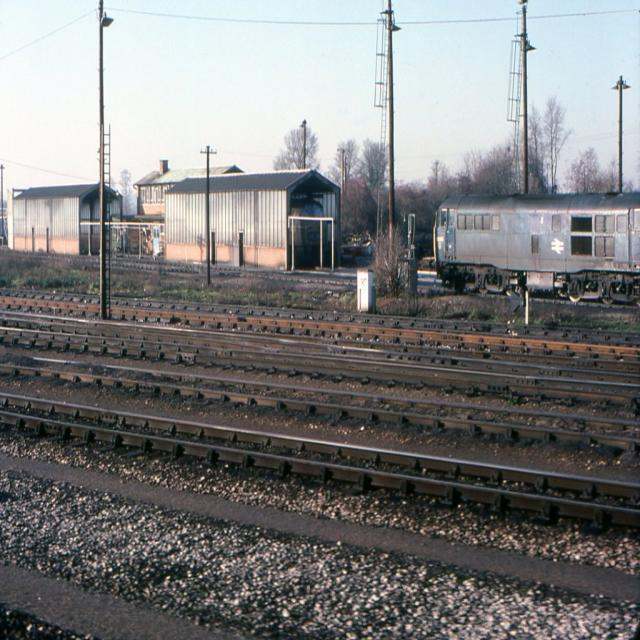locomotive: (425, 179, 640, 310)
